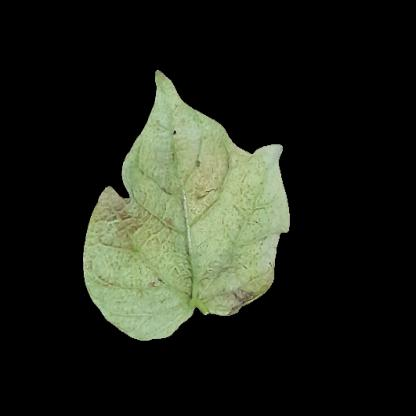curl_stage1: (137, 193, 261, 291)
